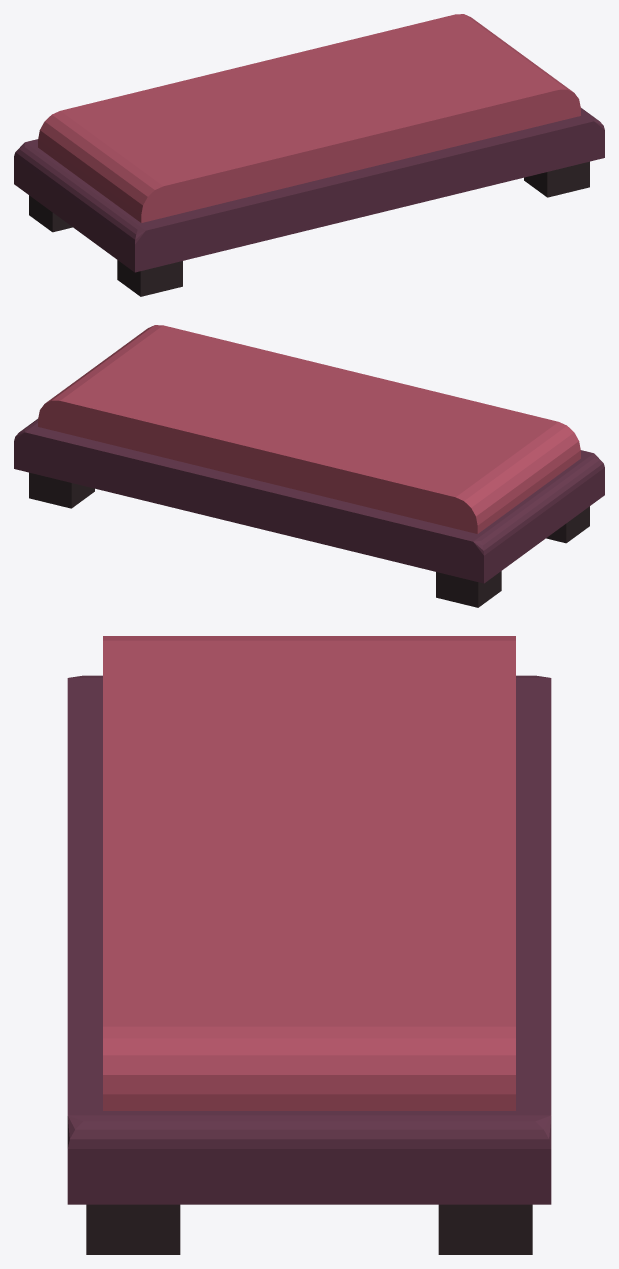
Rendered from Prop_Pouffes_08.fbx.
The picture shows the model from 3 angles, top to bottom: view 1: azimuth 30°, elevation 25°; view 2: azimuth 150°, elevation 25°; view 3: azimuth 270°, elevation 25°; orthographic projection. The views are drawn at different scales.
Visible parts, largest first — view 1: Prop_Pouffes_08; view 2: Prop_Pouffes_08; view 3: Prop_Pouffes_08.
Boxes of the visible parts, x1,y1,x2,y2 form: Prop_Pouffes_08: (14,14,604,296); Prop_Pouffes_08: (14,325,604,607); Prop_Pouffes_08: (67,636,551,1254).
Size of the model in its own units: 177 by 36.28 by 78.72.
